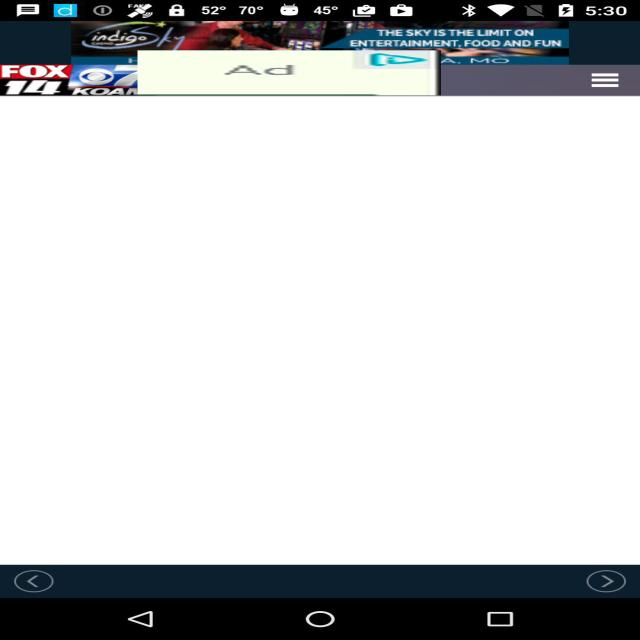sneaking: (137, 50, 441, 96)
